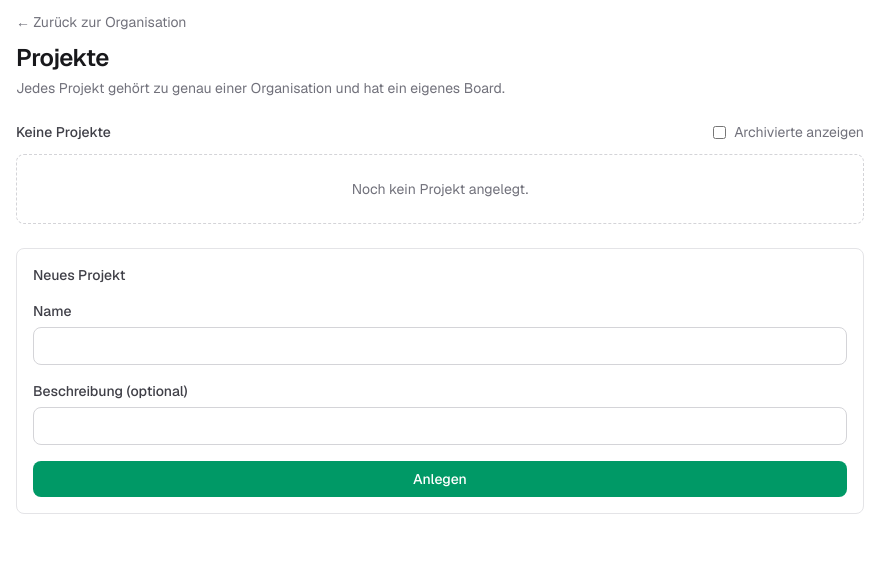
Test: Projektliste › Anlegen › zeigt die Meldung des Servers, wenn das Anlegen scheitert
The width and height of the screenshot is (881, 585).
Step 1. Type "Verboten" into the field labelled "Name" → [440, 346], box 33,327 -> 847,365
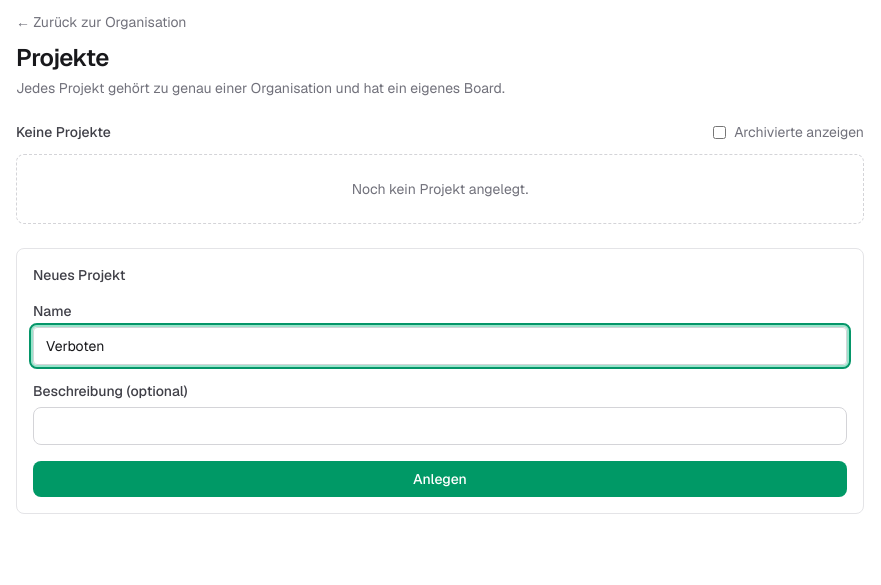
Step 2. Click the button "Anlegen" → [440, 479], box 33,461 -> 847,497
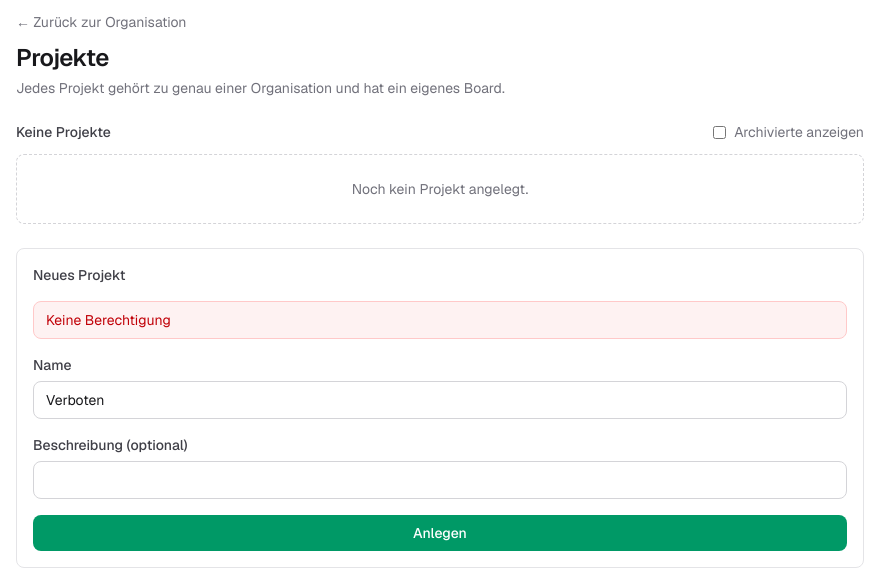
Expected: the text "Keine Berechtigung" is shown, 33,301 -> 847,339
